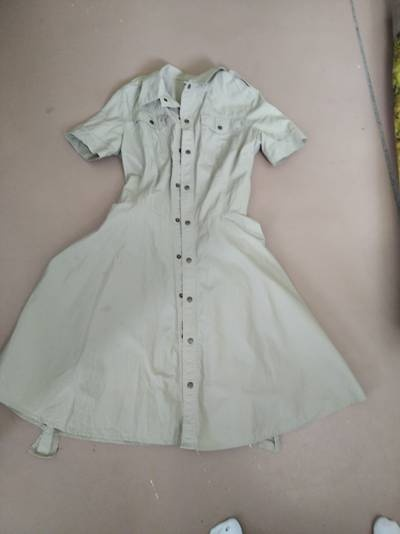Dress: (0, 48, 370, 479)
